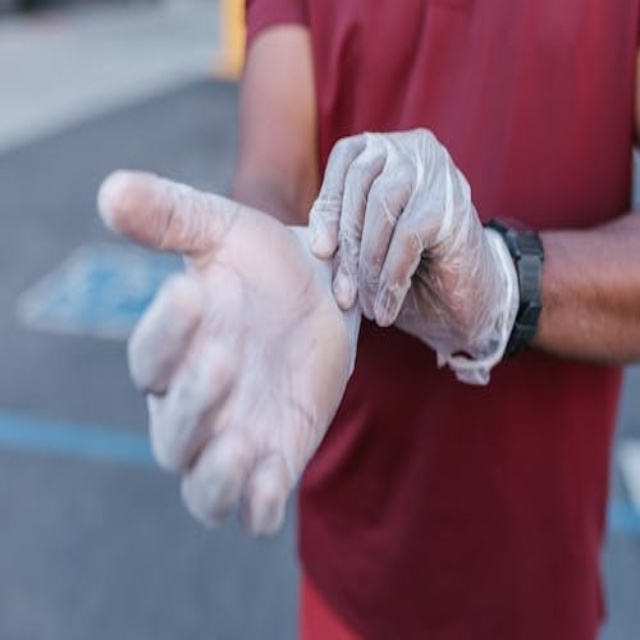Guantes: (99, 164, 360, 539), (308, 125, 519, 383)
